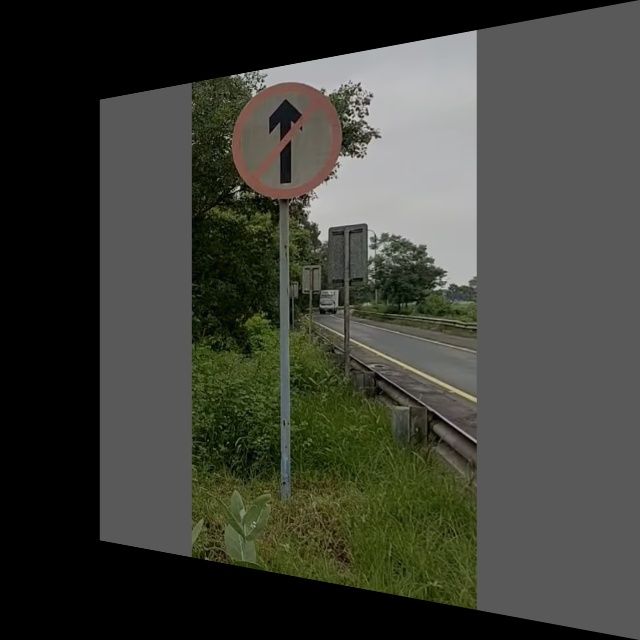No_Entry: (231, 74, 343, 202)
